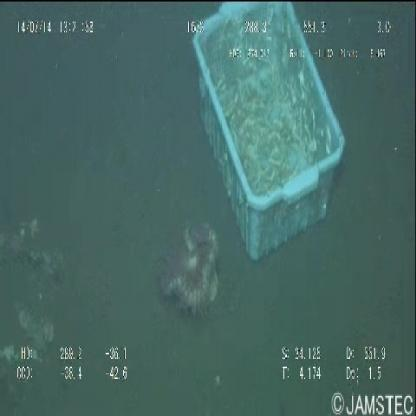Rác: (179, 1, 349, 272)
